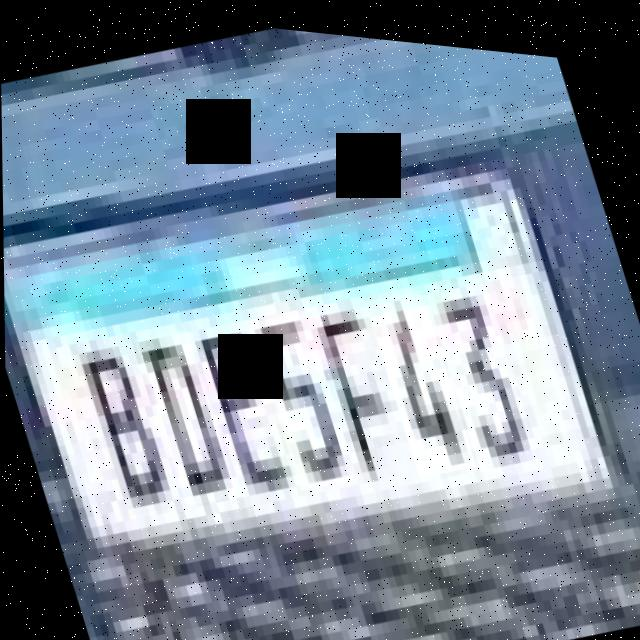3: (422, 261, 538, 466)
4: (363, 275, 475, 473)
5: (247, 299, 356, 488)
B: (70, 325, 178, 518)
D: (133, 320, 237, 506)
E: (186, 311, 296, 500)
F: (306, 286, 411, 479)
